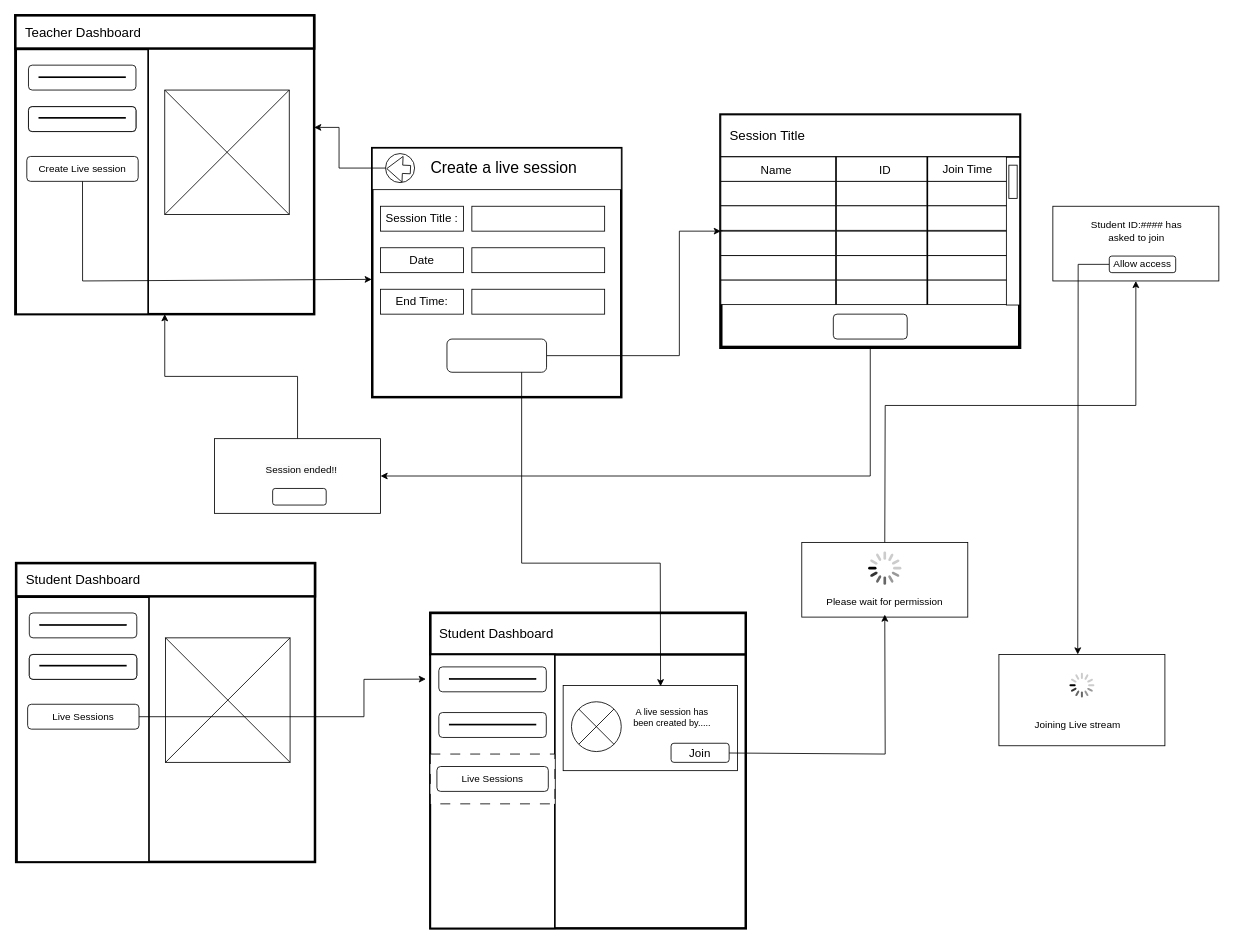
This 1233x944 diagram has some shape labels left out. The shapes that lost their labels are listed below. From the top down, each one's centre as x and y in pixels, then its label:
(x=869, y=326): End Session
(x=496, y=355): Start
(x=299, y=496): Ok
